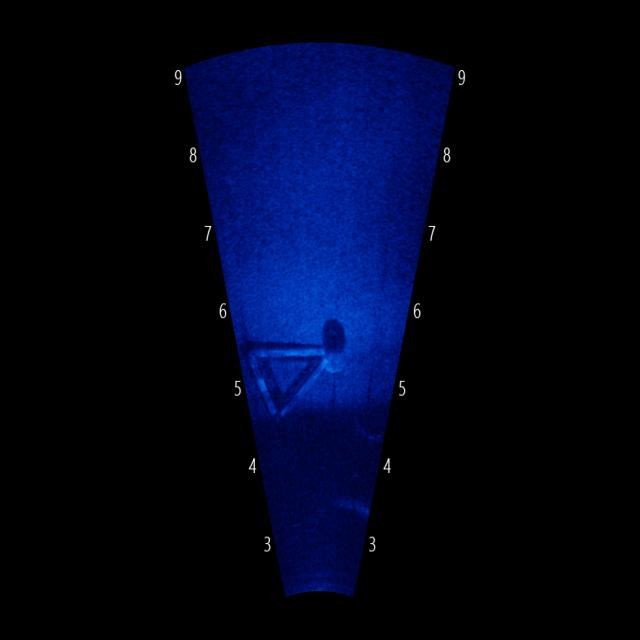triangle: (243, 324, 365, 430)
